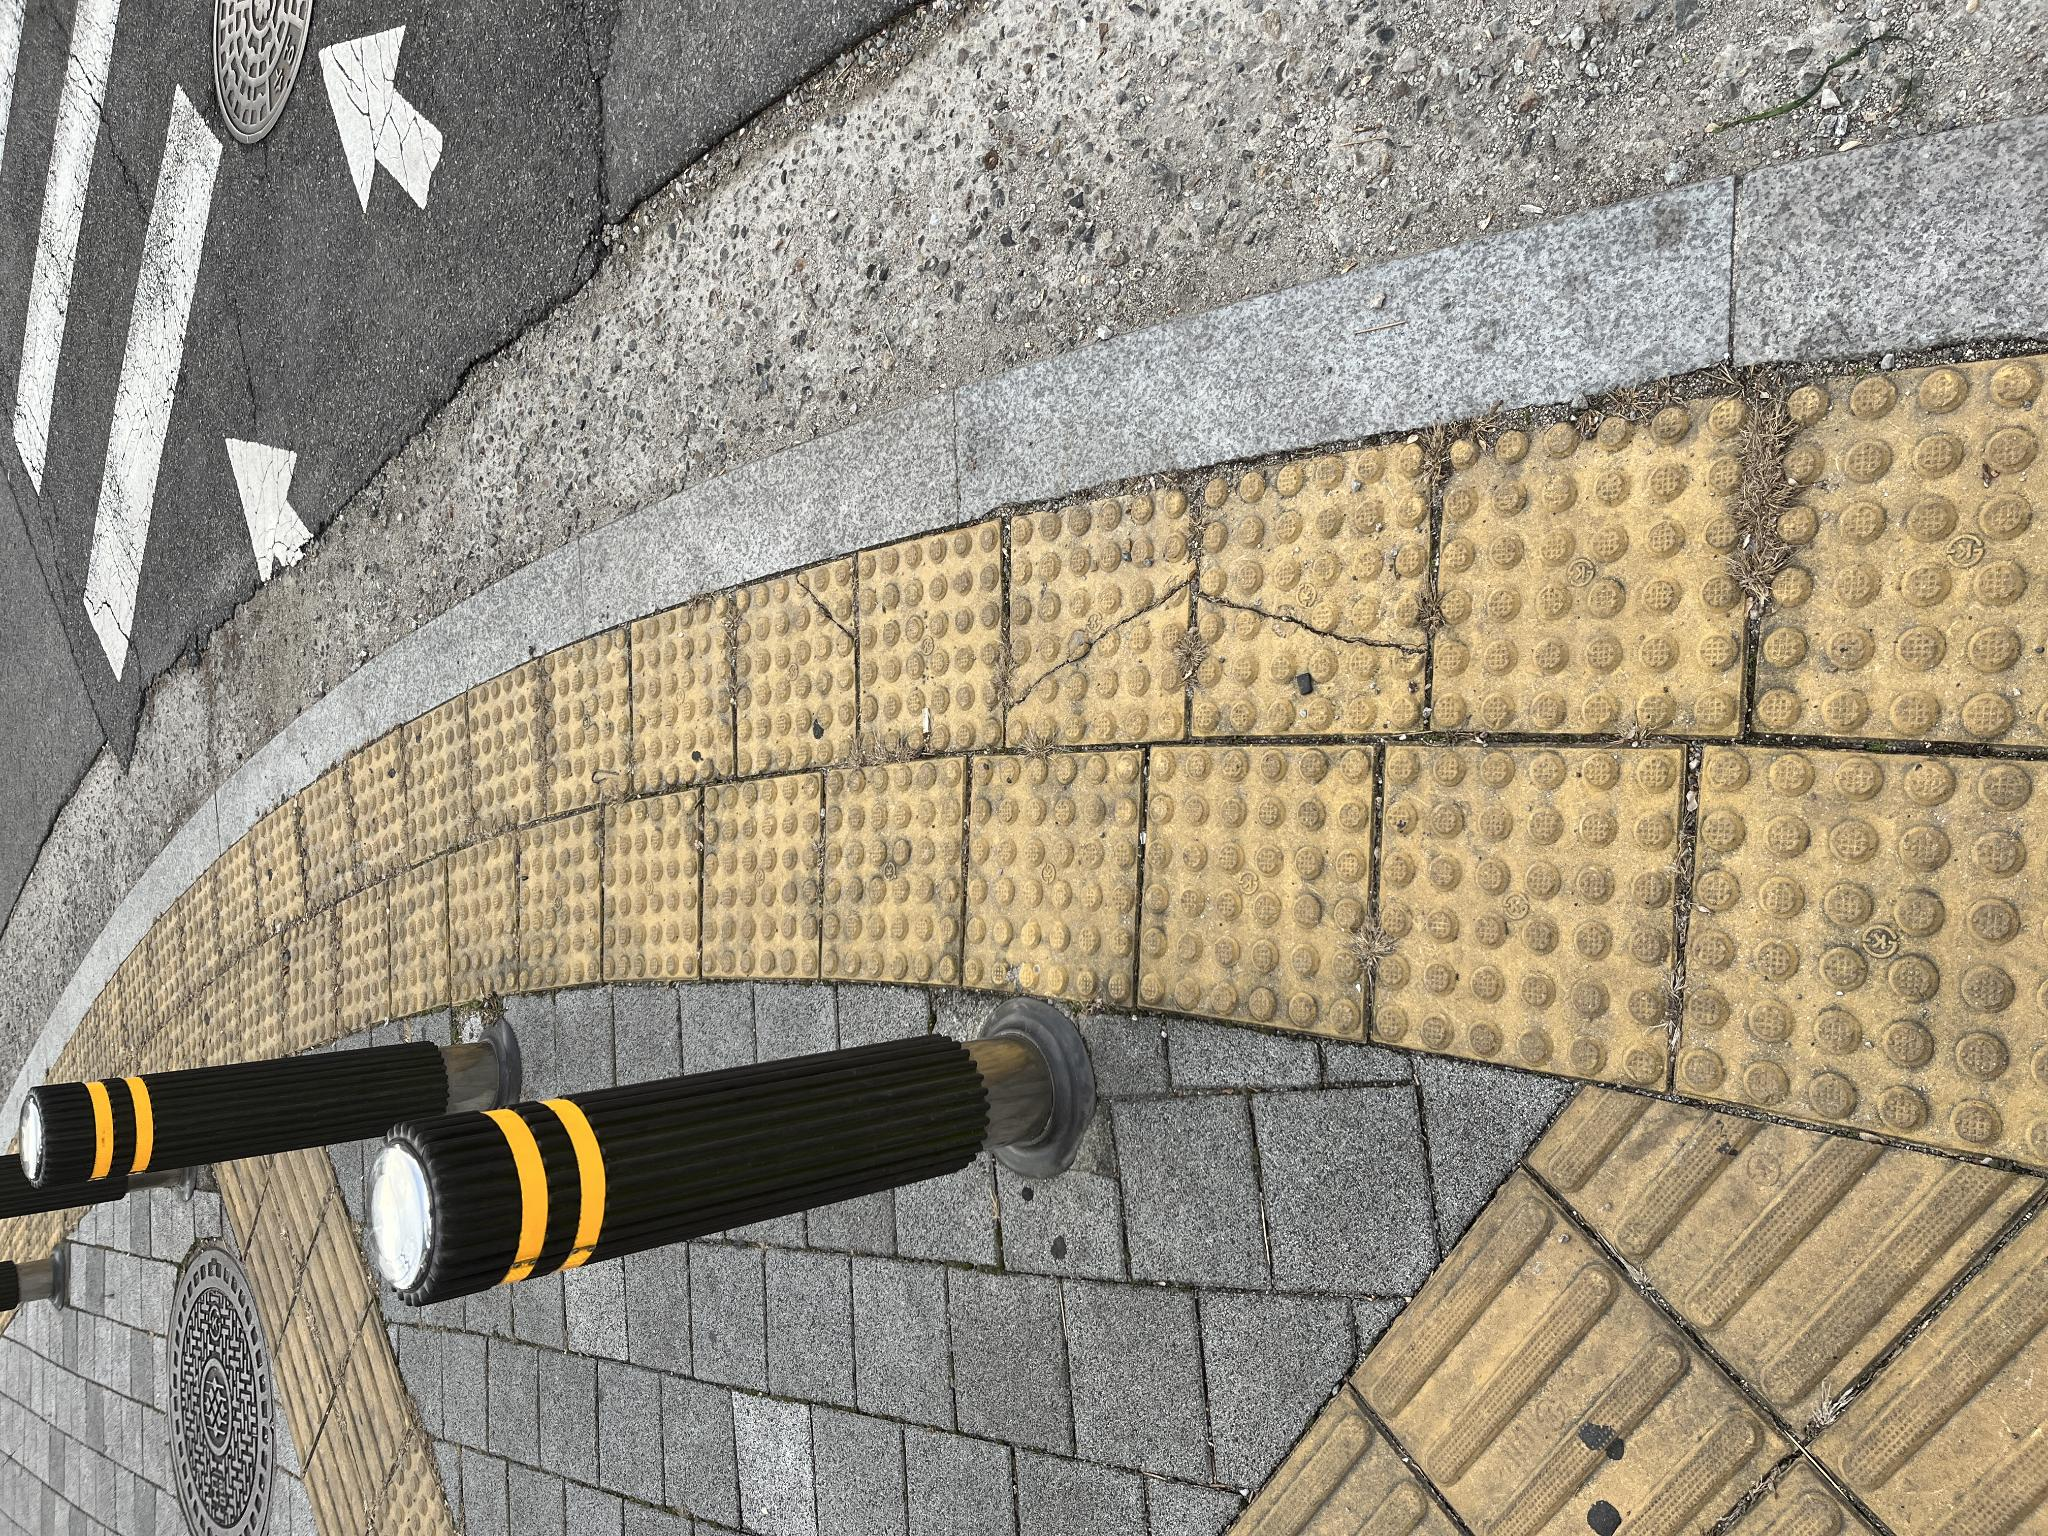Stop block broken: (803, 1192, 1093, 1428), (790, 1007, 1048, 1191)
Stop block normal: (497, 1141, 792, 1375), (550, 821, 779, 963), (806, 1431, 1114, 1536), (743, 631, 943, 733)
